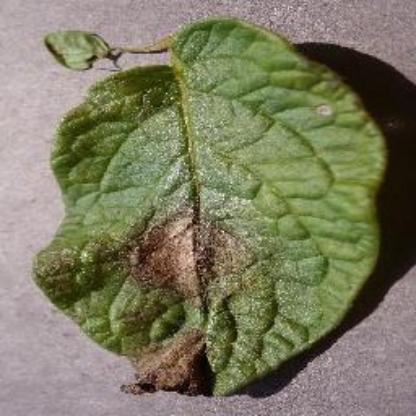Late-Blight: (26, 14, 392, 402)
